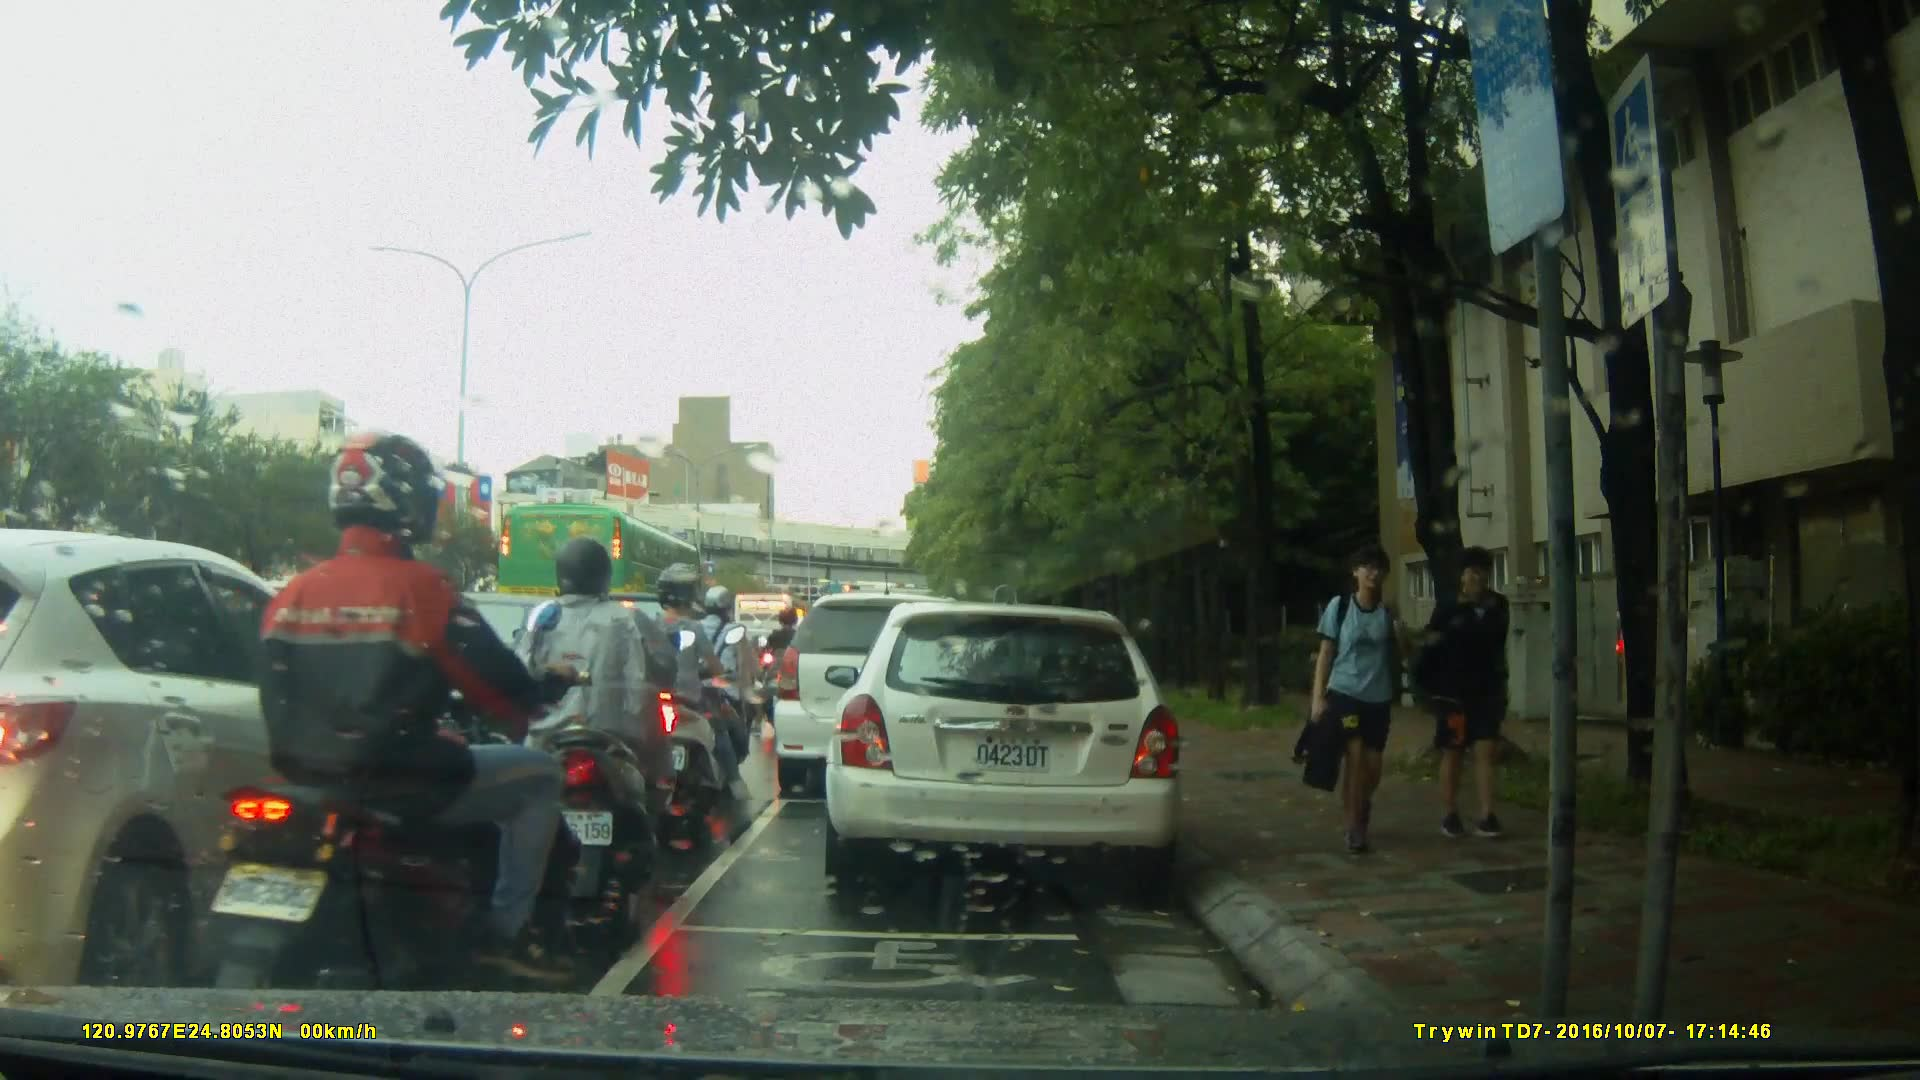pedestrian: (1290, 538, 1434, 857), (1432, 543, 1525, 849)
rider: (210, 427, 587, 1022), (510, 544, 699, 910), (631, 564, 741, 830), (686, 585, 762, 779), (762, 601, 808, 728)
vehicle: (1, 529, 453, 988), (831, 592, 1196, 897), (319, 590, 627, 786), (770, 590, 999, 803), (495, 501, 707, 636)
